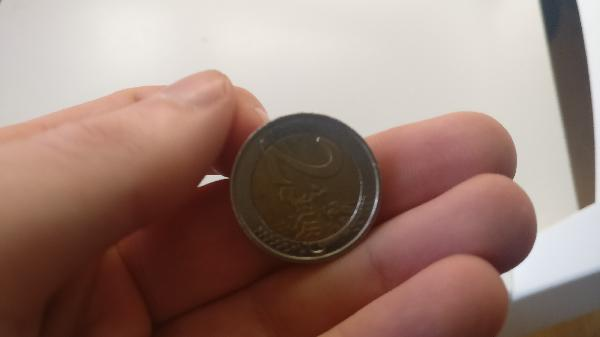Two Euro: (230, 110, 390, 267)
